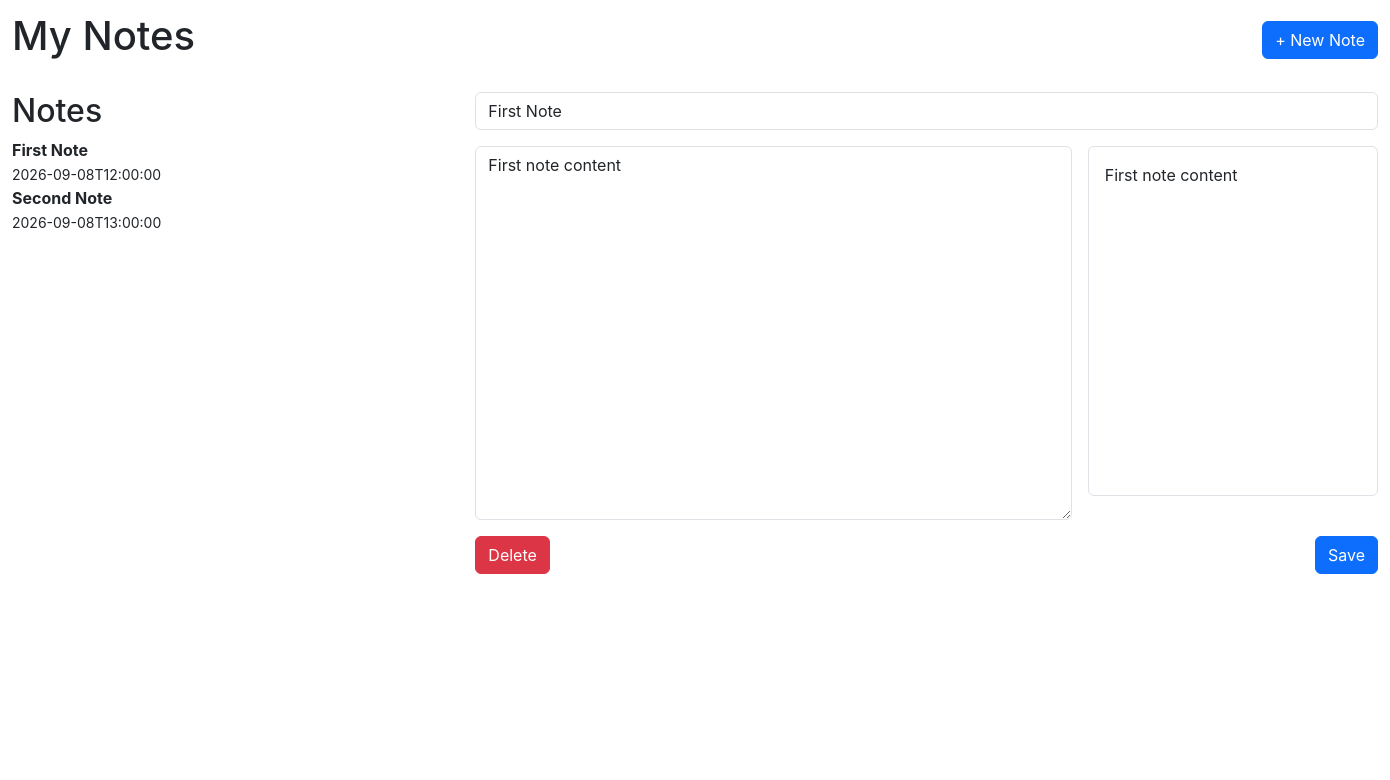
Test: Notes › displays an error when creating a note fails
Click the button "+ New Note": x=1320, y=40 [1262,21,1378,59]
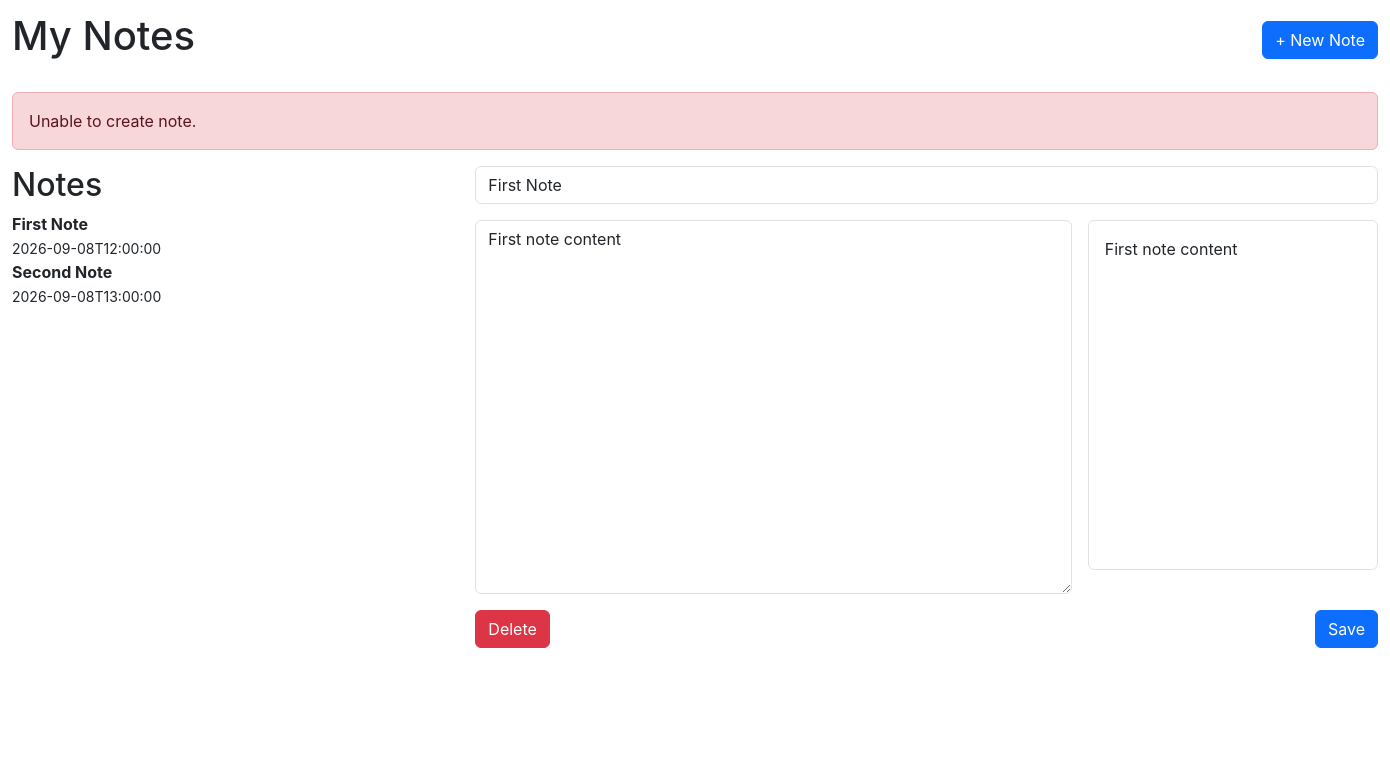
Result: the text "Unable to create note." is shown at [12,92,1378,150]
